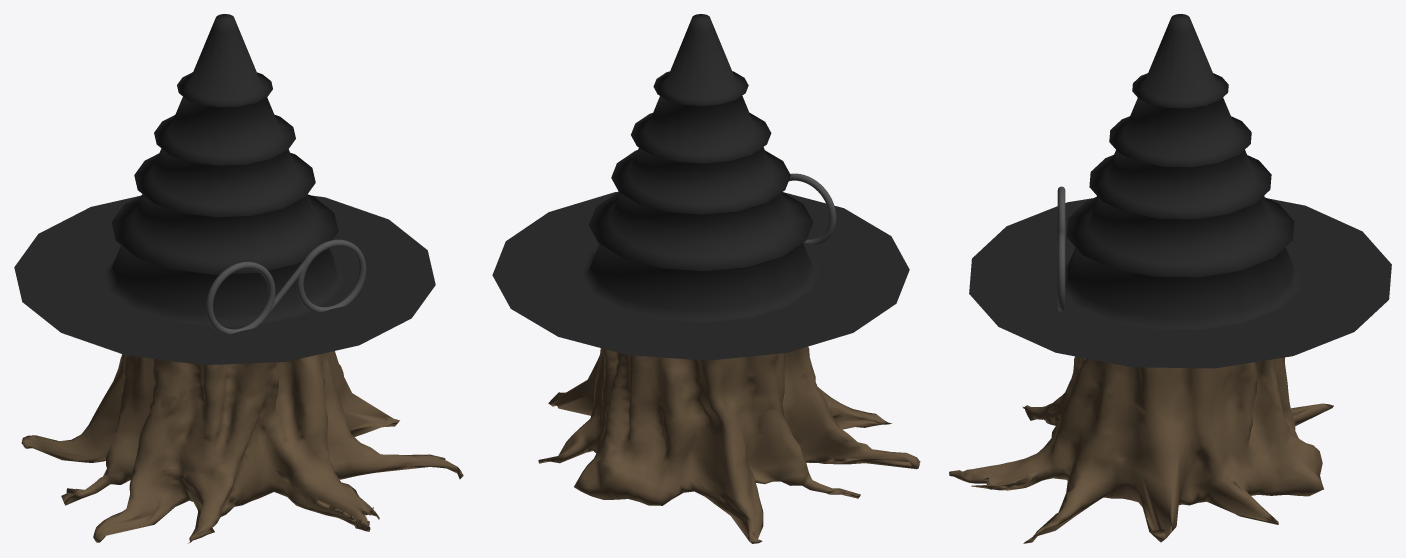
File: elphaba_model.glb
The picture shows the model from 3 angles, left to right: view 1: azimuth 30°, elevation 25°; view 2: azimuth 150°, elevation 25°; view 3: azimuth 270°, elevation 25°; orthographic projection. The views are drawn at different scales.
Visible parts, largest first — view 1: Cone.001, Cylinder, Torus.002; view 2: Cone.001, Cylinder, Torus.002; view 3: Cone.001, Cylinder, Torus.002.
Part boxes in pixels (box(x1,y1,x2,y2)): Cone.001: box(14, 14, 435, 365); Cylinder: box(21, 351, 463, 543); Torus.002: box(206, 239, 366, 334); Cone.001: box(492, 14, 909, 360); Cylinder: box(538, 346, 920, 543); Torus.002: box(789, 173, 836, 245); Cone.001: box(969, 14, 1391, 368); Cylinder: box(949, 356, 1333, 543); Torus.002: box(1057, 186, 1065, 311).
Bounding box in the file's own units: 51.77 × 61.67 × 54.23.
